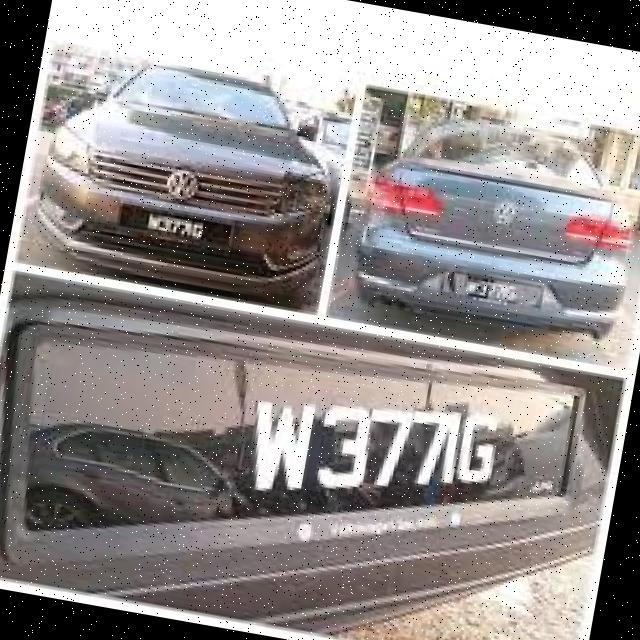License_Plate: (1, 288, 587, 640), (118, 204, 232, 249), (440, 269, 546, 314)
